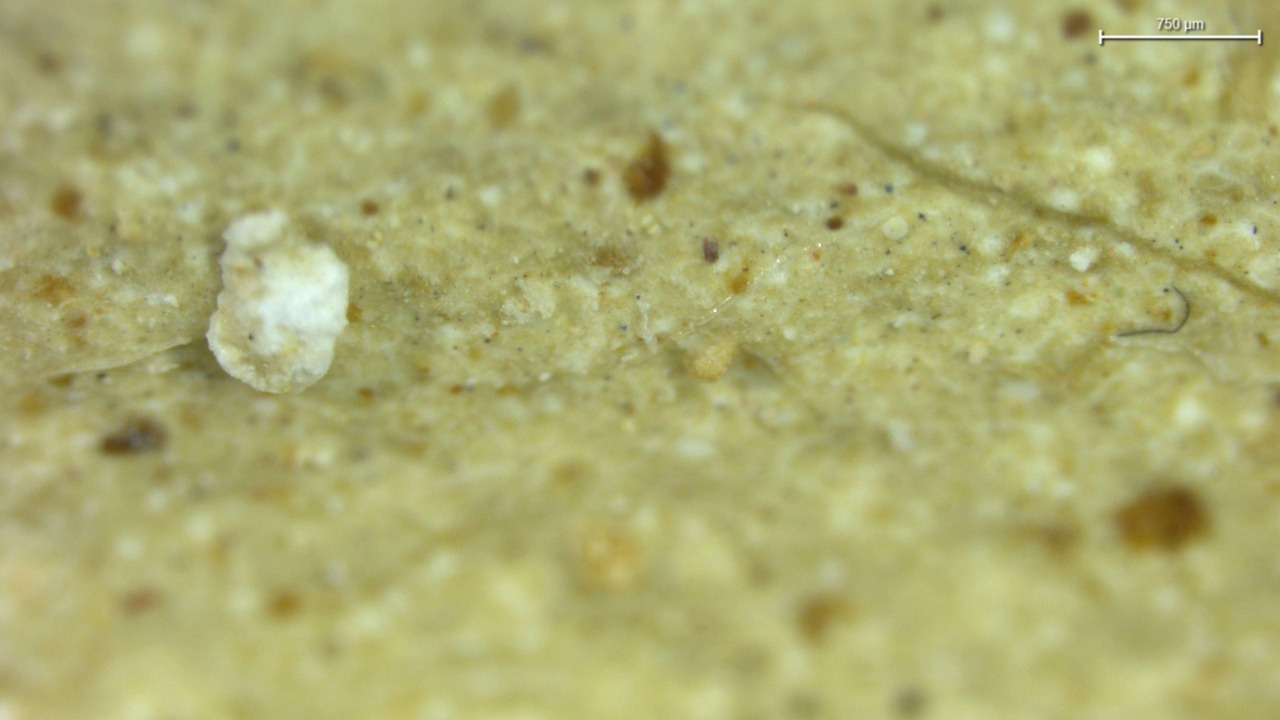microplastic_fragment: (206, 211, 352, 395)
